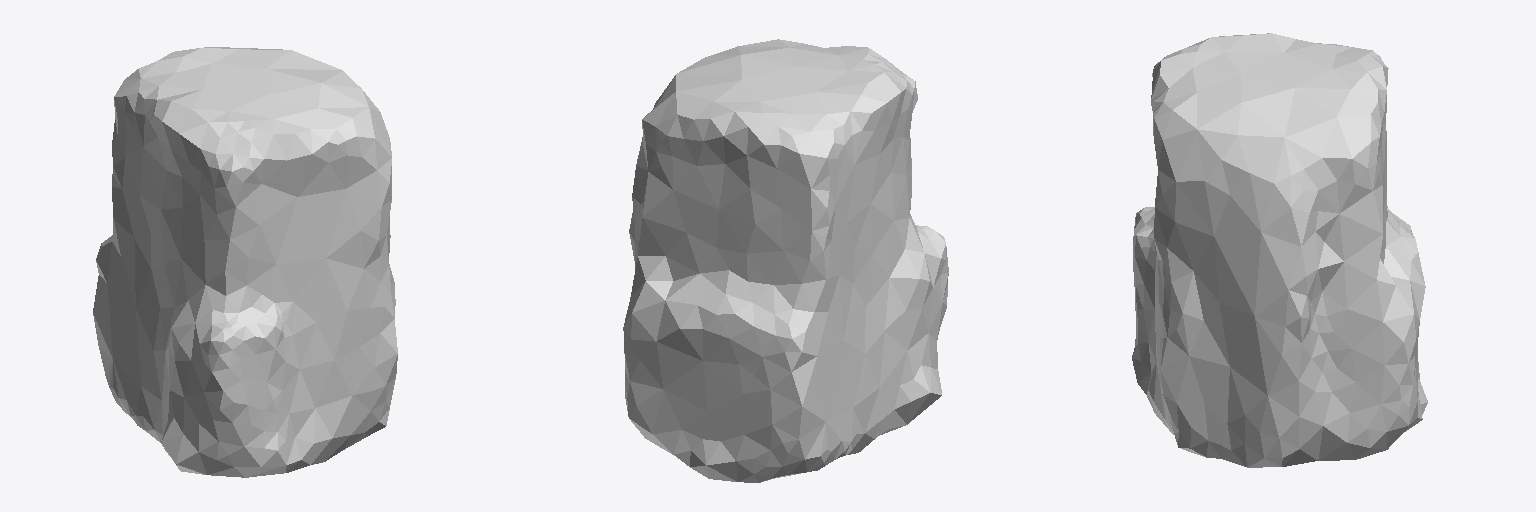
The model's file is RockSet06-B.obj.
The picture shows the model from 3 angles: view 1: azimuth 30°, elevation 25°; view 2: azimuth 150°, elevation 25°; view 3: azimuth 270°, elevation 25°; orthographic projection.
Visible parts, largest first — view 1: RockSet06-B; view 2: RockSet06-B; view 3: RockSet06-B.
Boxes of the visible parts, x1,y1,x2,y2 form: RockSet06-B: [93, 47, 397, 477]; RockSet06-B: [623, 39, 948, 482]; RockSet06-B: [1132, 33, 1427, 467].
Size of the model in its own units: 16.44 by 22.01 by 16.4.